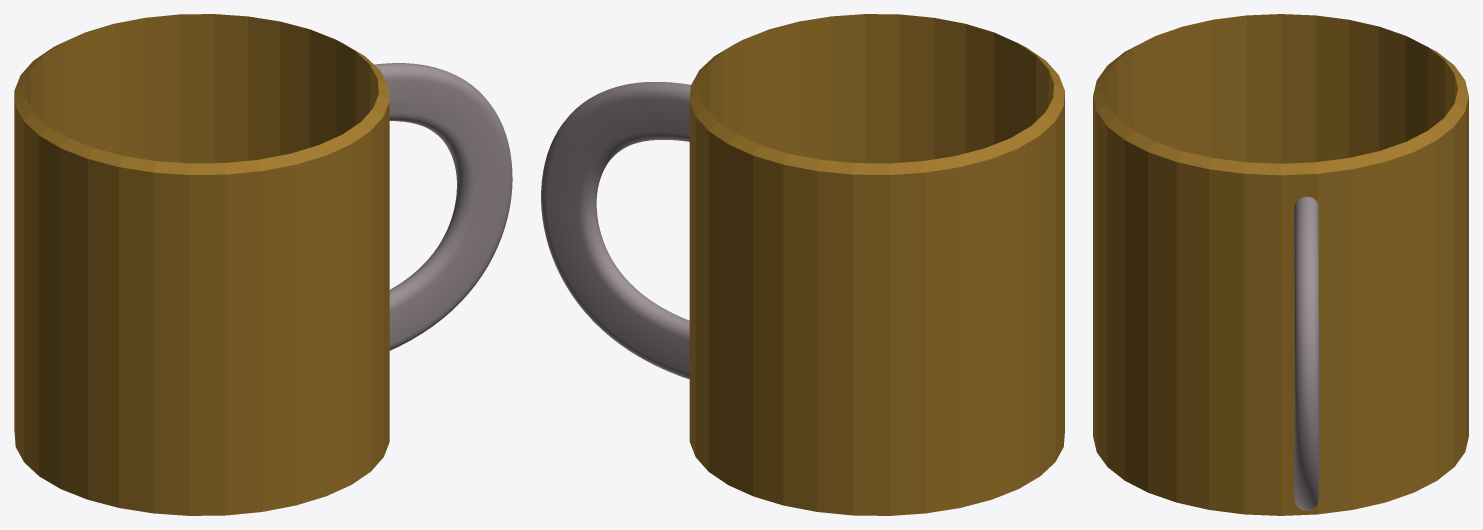
File: MugYellow.fbx
3 renders of one model, left to right at view 1: azimuth 30°, elevation 25°; view 2: azimuth 150°, elevation 25°; view 3: azimuth 270°, elevation 25°, orthographic.
Visible parts, largest first — view 1: MugYellow; view 2: MugYellow; view 3: MugYellow.
Boxes of the visible parts, x1,y1,x2,y2 form: MugYellow: (14,14,512,515); MugYellow: (541,14,1064,515); MugYellow: (1093,14,1468,515).
Bounding box in the file's own units: 24.47 × 16.45 × 16.79.
